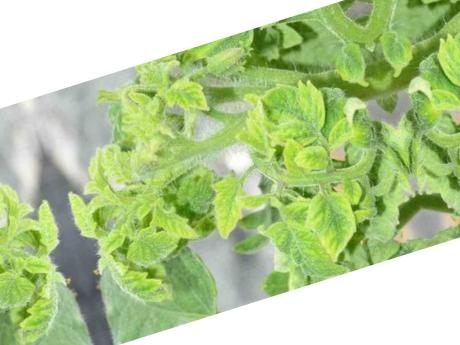Tomato leaf yellow virus: (245, 73, 337, 153), (295, 176, 371, 266), (197, 159, 260, 245), (105, 237, 174, 314), (147, 196, 202, 248), (160, 75, 218, 121)
